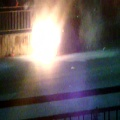fire: (31, 14, 61, 66)
